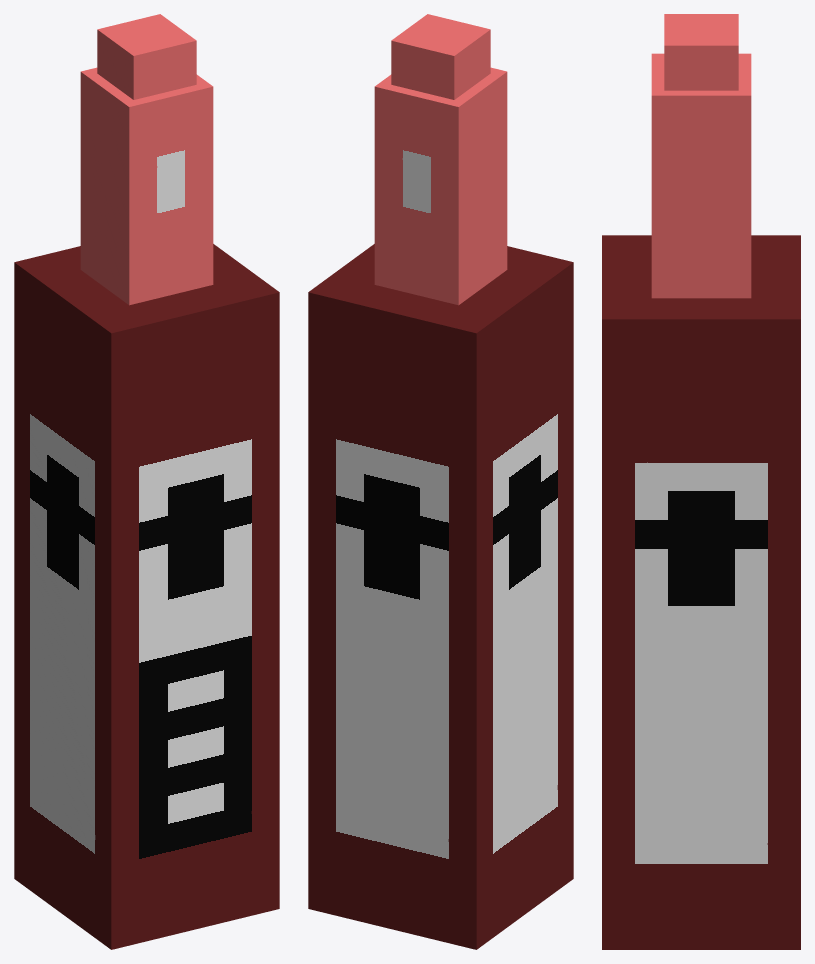
File: wine.fbx
3 views of the same model, side by side, from view 1: azimuth 30°, elevation 25°; view 2: azimuth 150°, elevation 25°; view 3: azimuth 270°, elevation 25° (orthographic). The views are drawn at different scales.
Parts seen in each view (by area): view 1: cube, cube_2, cube_1; view 2: cube, cube_2, cube_1; view 3: cube, cube_2, cube_1.
Part boxes in pixels (left/top/right/bottom): cube: left=14, top=244, right=279, bottom=949; cube_2: left=80, top=67, right=213, bottom=305; cube_1: left=97, top=14, right=196, bottom=99; cube: left=308, top=244, right=573, bottom=949; cube_2: left=374, top=67, right=507, bottom=305; cube_1: left=391, top=14, right=490, bottom=99; cube: left=602, top=235, right=800, bottom=949; cube_2: left=651, top=53, right=751, bottom=298; cube_1: left=664, top=14, right=738, bottom=90.
Bounding box in the file's own units: 5 × 24.38 × 5.
